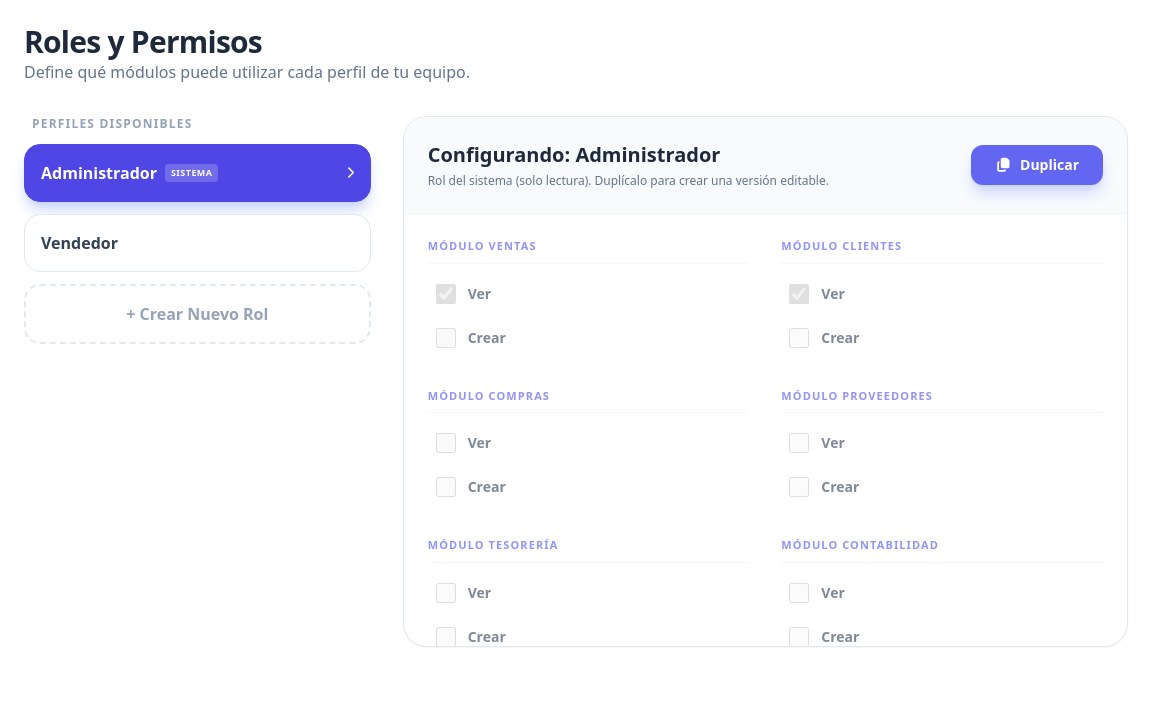
Test: GestionRoles › seleccionar un rol muestra el panel de configuración
Expected: the text "Vendedor" is shown, left=41, top=231, right=118, bottom=255
What coordinates should you click on to do the following:
click the button "Vendedor"
I would click on:
 (79, 243)
Its box is left=24, top=214, right=371, bottom=272.
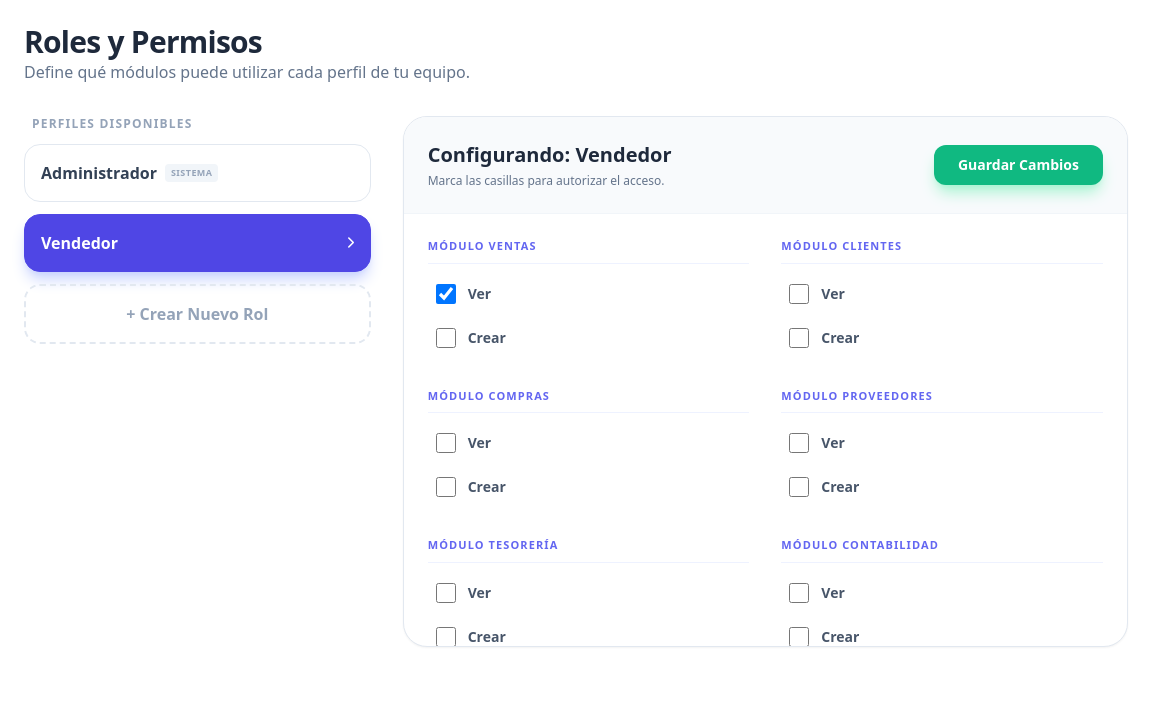
Expected: the heading "Configurando: Vendedor" is shown, left=428, top=141, right=672, bottom=169
